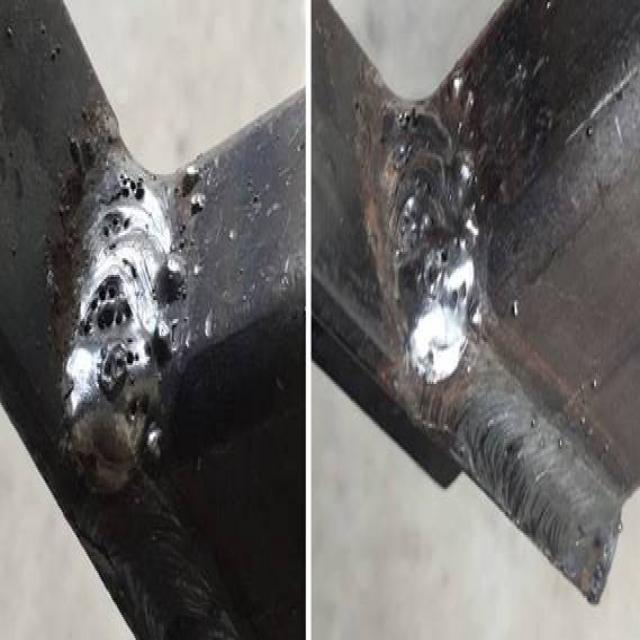Bad Welding: (66, 145, 166, 470), (368, 86, 470, 376)
Porosity: (72, 275, 126, 340), (102, 166, 146, 241), (96, 344, 146, 401), (422, 239, 448, 292), (124, 392, 140, 420)
